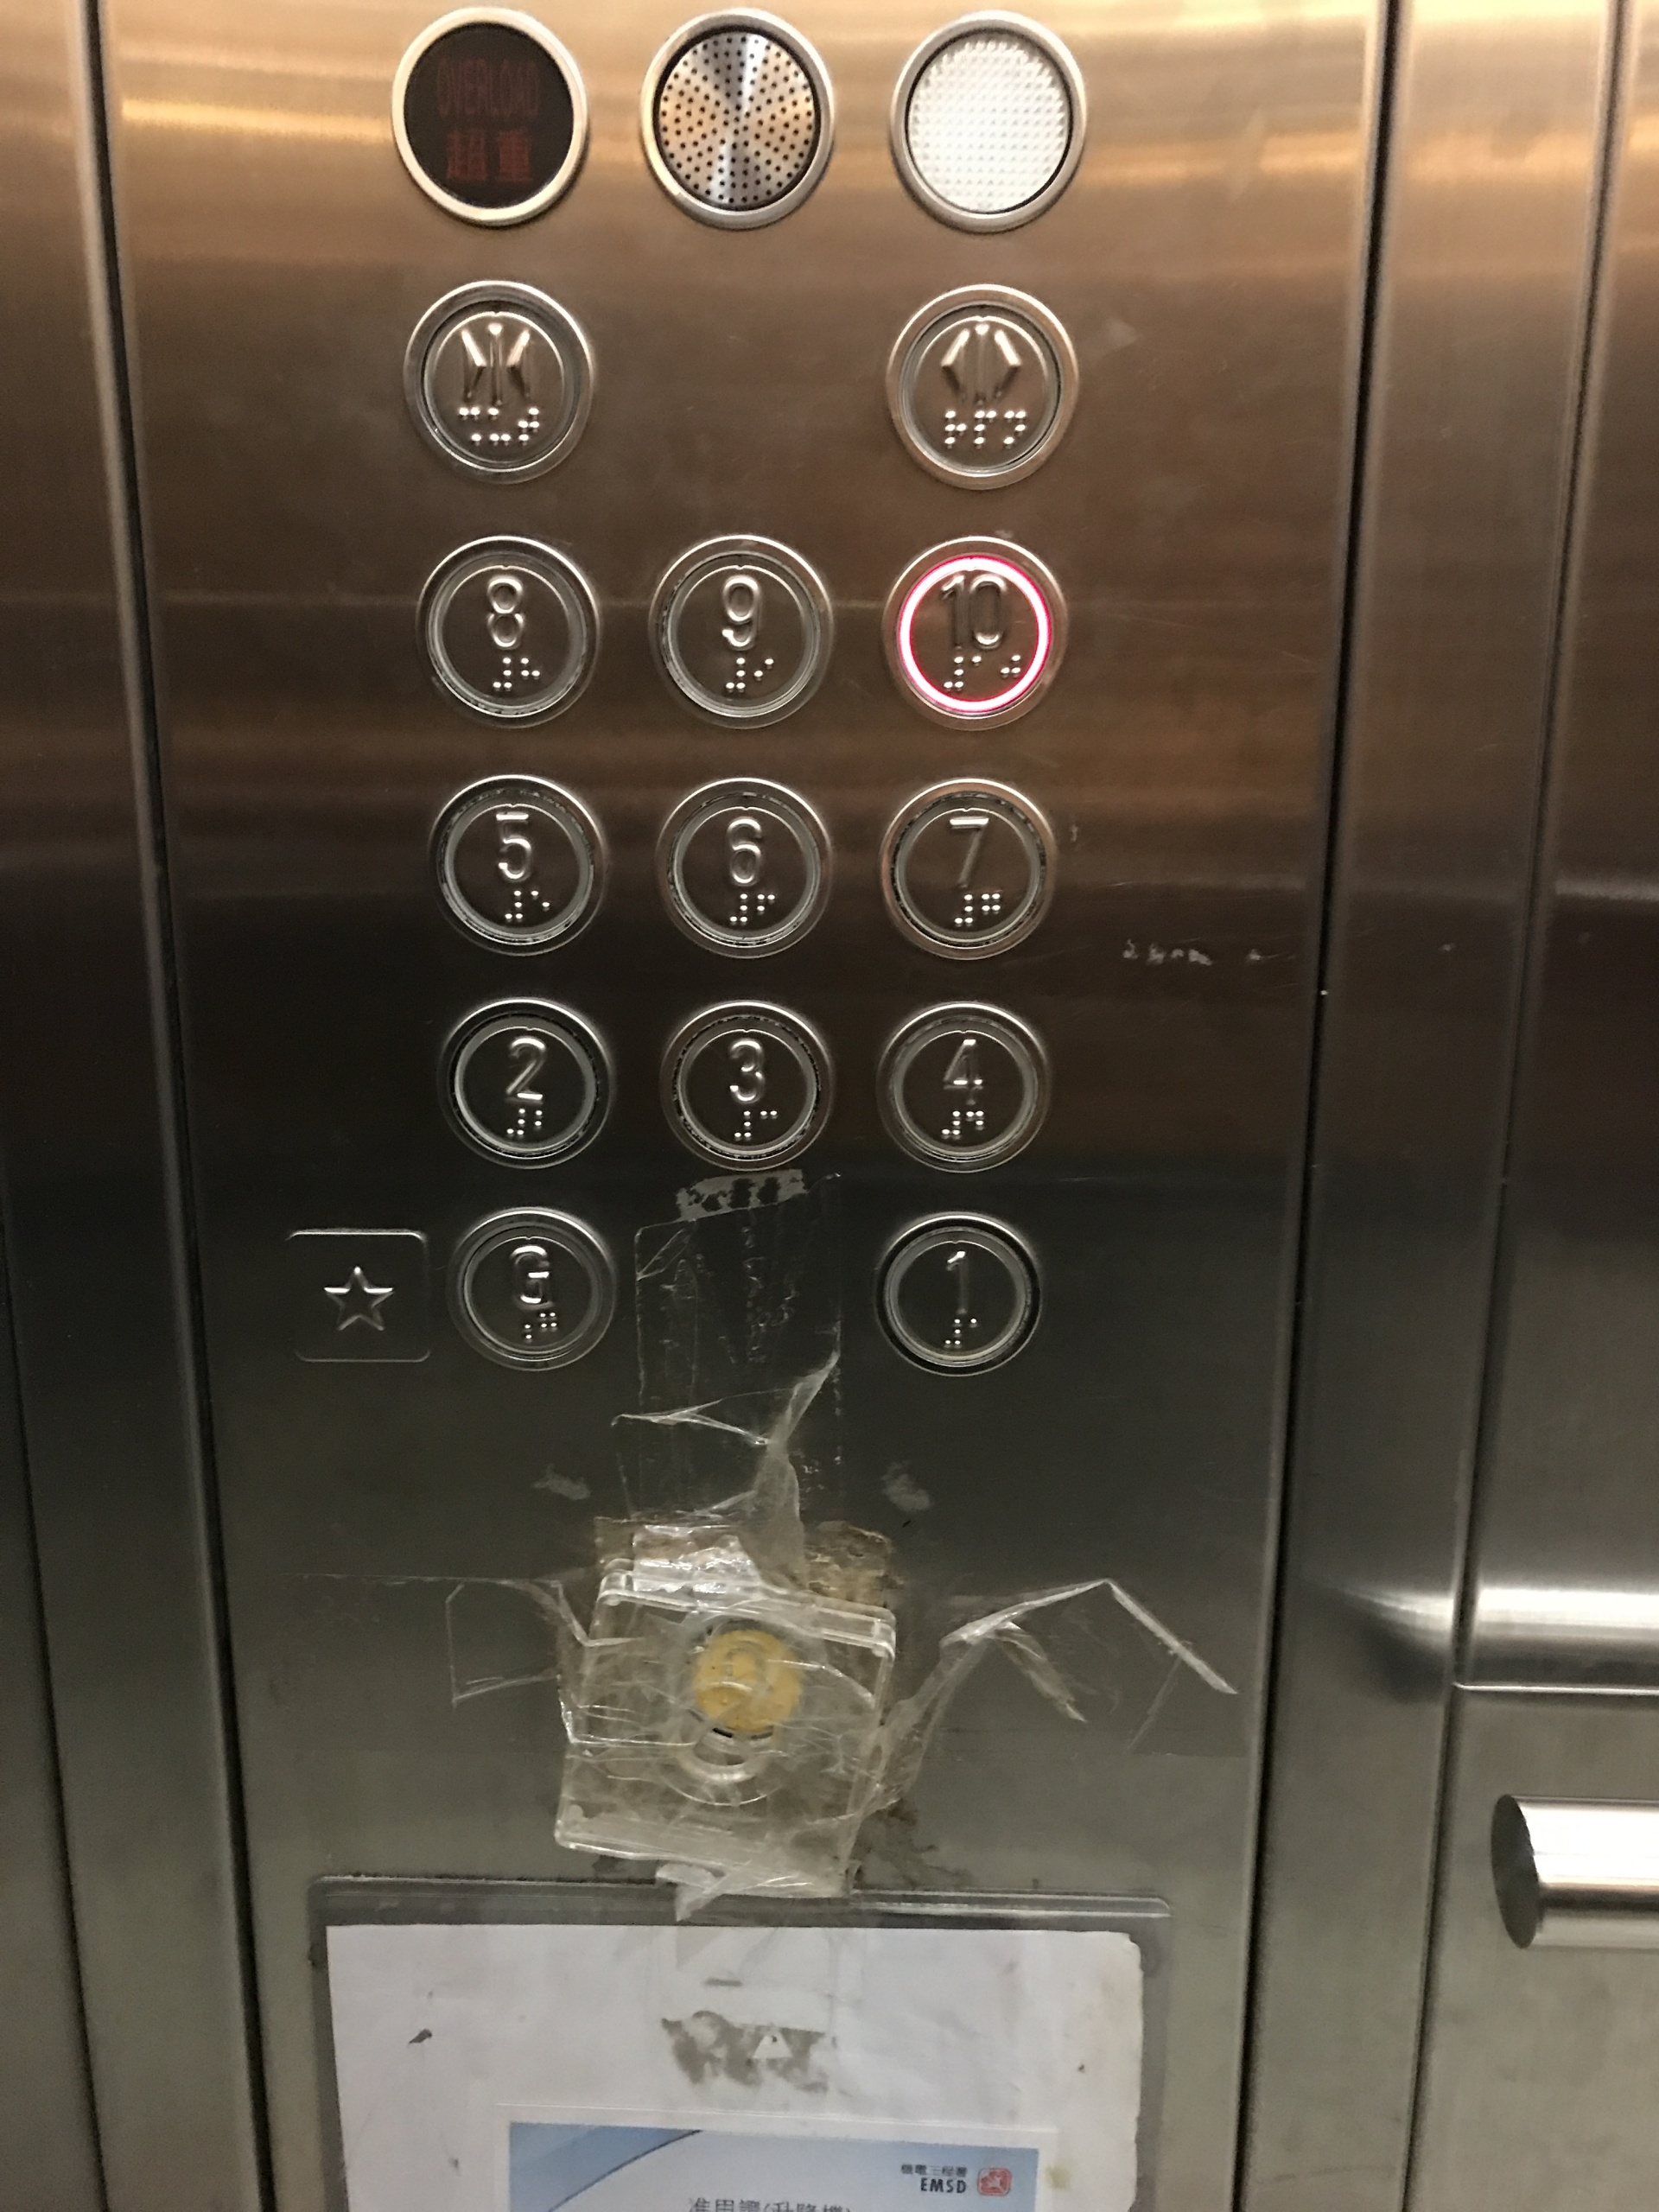1: (866, 1205, 1046, 1379)
10: (877, 529, 1073, 735)
2: (430, 993, 620, 1176)
3: (648, 991, 838, 1174)
4: (868, 996, 1058, 1181)
5: (416, 770, 610, 958)
6: (647, 773, 838, 963)
7: (871, 775, 1063, 965)
8: (406, 529, 605, 735)
9: (640, 529, 838, 735)
G: (441, 1202, 622, 1374)
close: (394, 273, 599, 488)
empty: (885, 7, 1093, 233)
open: (880, 279, 1084, 491)
s: (277, 1224, 434, 1367)
speaker: (631, 5, 838, 230)
text_overload: (389, 2, 592, 226)
